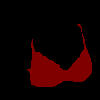reggiseno: (27, 23, 92, 87)
